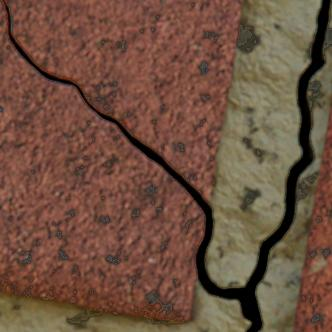brick: (293, 100, 331, 331)
broken_brick: (0, 0, 203, 322), (6, 0, 242, 201)
crack: (2, 0, 331, 331)
